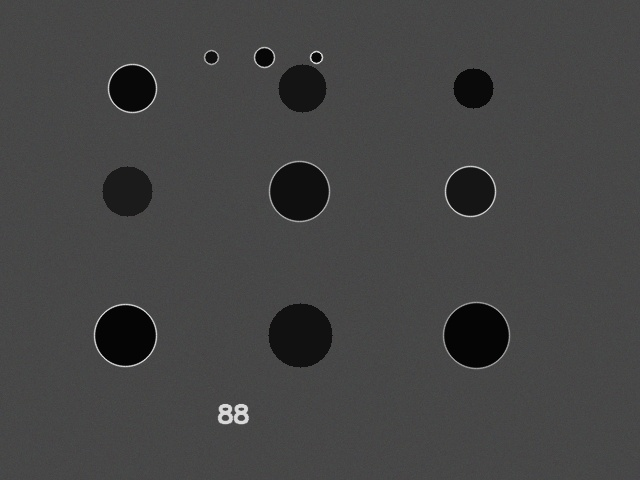hole: (443, 302, 509, 368), (268, 303, 332, 367), (94, 304, 156, 366), (269, 161, 329, 221), (102, 166, 152, 216), (445, 166, 495, 216), (108, 64, 156, 112), (278, 64, 326, 112), (453, 68, 493, 108), (254, 47, 274, 67), (204, 50, 218, 64), (310, 51, 322, 63)
